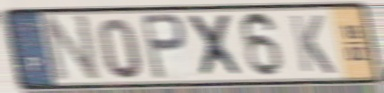0: (95, 14, 145, 82)
6: (239, 9, 289, 81)
K: (287, 13, 338, 76)
N: (43, 12, 103, 85)
P: (138, 12, 189, 82)
X: (183, 13, 248, 80)
